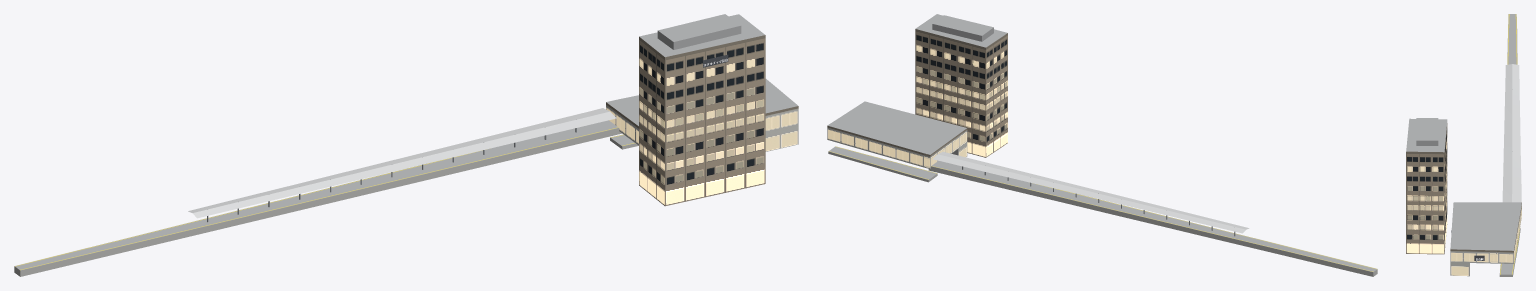
File: mejiro_station.glb
3 views of the same model, side by side, from view 1: azimuth 30°, elevation 25°; view 2: azimuth 150°, elevation 25°; view 3: azimuth 270°, elevation 25° (orthographic). The views are drawn at different scales.
Visible parts, largest first — view 1: MJ_Station; view 2: MJ_Station; view 3: MJ_Station.
Boxes of the visible parts, x1=… form: MJ_Station: x1=14, y1=14, x2=798, y2=276; MJ_Station: x1=827, y1=14, x2=1377, y2=276; MJ_Station: x1=1406, y1=14, x2=1521, y2=276.
Size of the model in its own units: 242 by 48.9 by 47.6.
10 materials, 2 textured.
